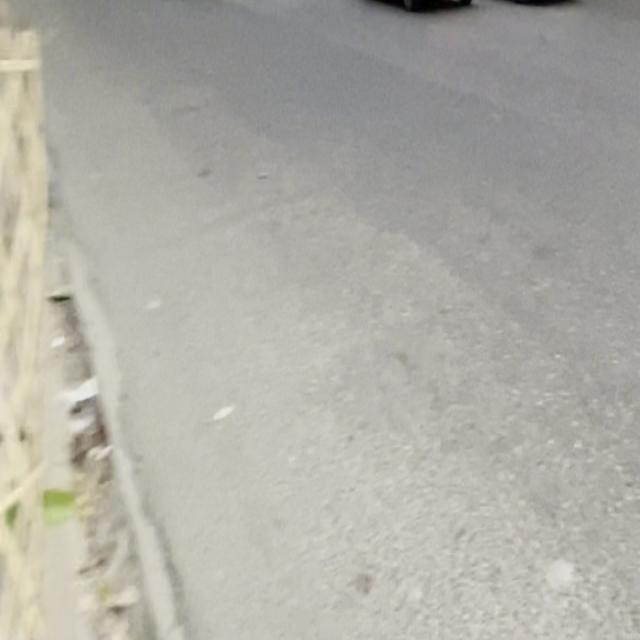car: (346, 0, 484, 15), (470, 0, 598, 15), (168, 0, 274, 2)
